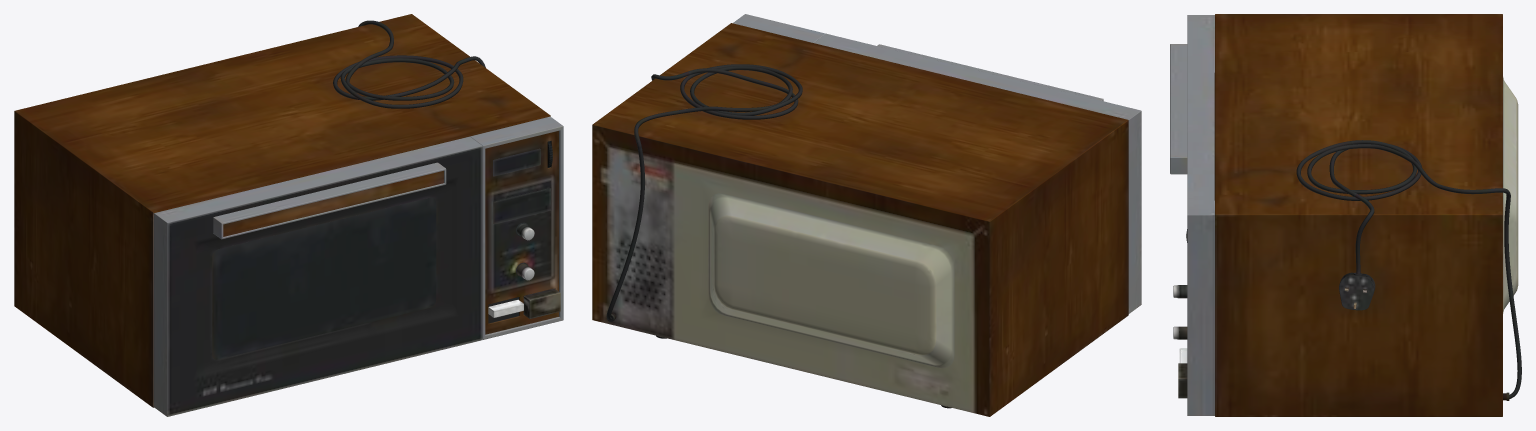
Rendered from microwave.glb.
3 views of the same model, side by side, from view 1: azimuth 30°, elevation 25°; view 2: azimuth 150°, elevation 25°; view 3: azimuth 270°, elevation 25° (orthographic). The views are drawn at different scales.
Parts seen in each view (by area): view 1: vintage_microwave; view 2: vintage_microwave; view 3: vintage_microwave.
Boxes of the visible parts, x1,y1,x2,y2 form: vintage_microwave: (14,14,563,416); vintage_microwave: (592,14,1141,416); vintage_microwave: (1170,14,1521,416).
Bounding box in the file's own units: 1.07 × 0.5258 × 0.7456.
2 materials, 2 textured.
